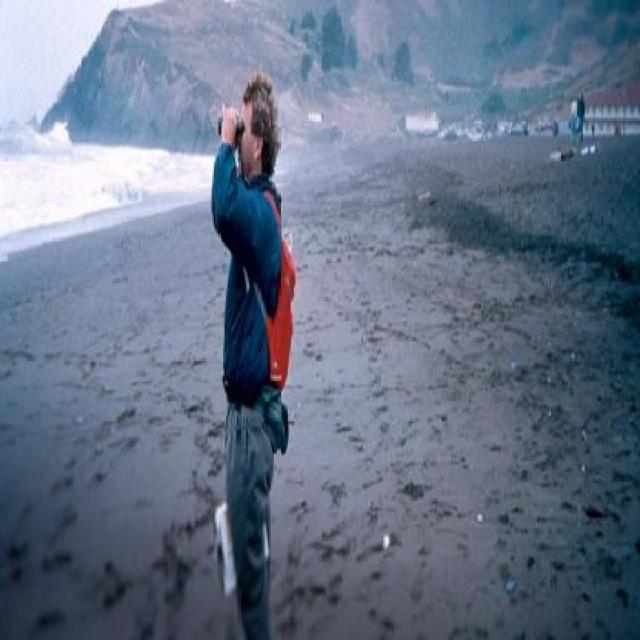backpack: (266, 204, 299, 393)
